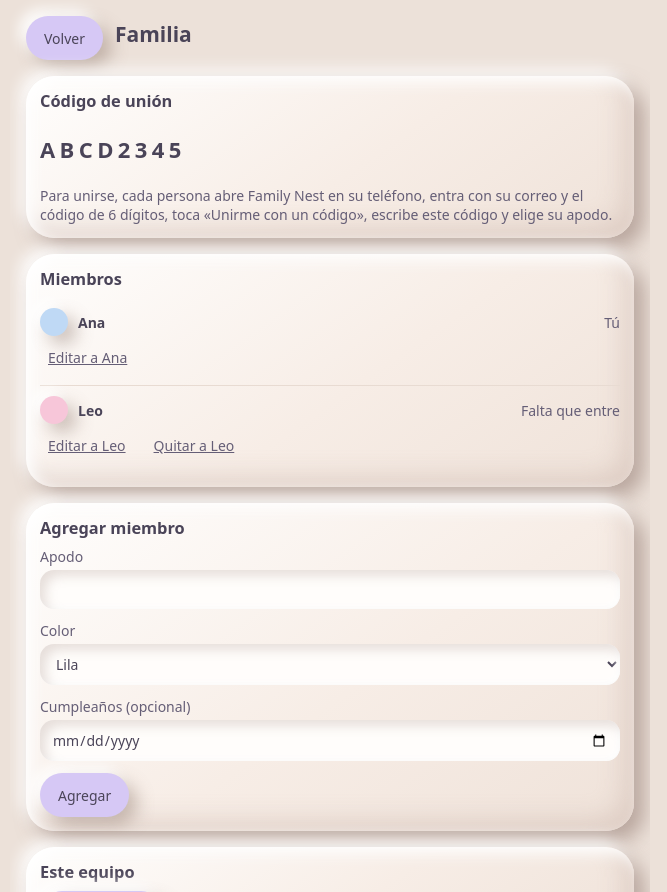
it: un apodo repetido o vacío no llega a la base
Click the button "Agregar" at (85, 795), box [40,773,129,817]
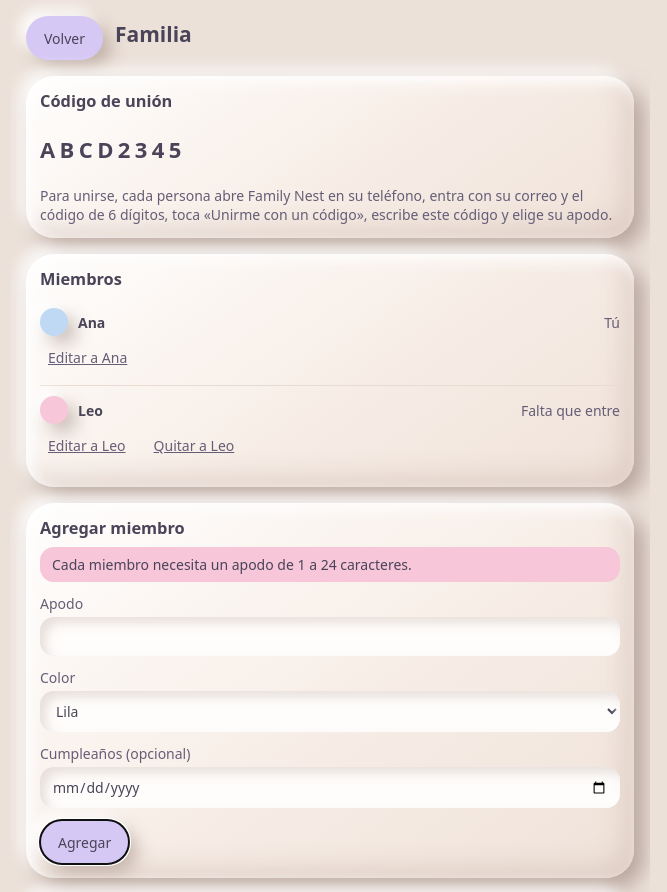
Expected: the message reads "Cada miembro necesita un apodo de 1 a 24 caracteres.", [52,555,412,574]
Type "leo" into the field labelled "Apodo" at (330, 636), box [40,617,620,656]
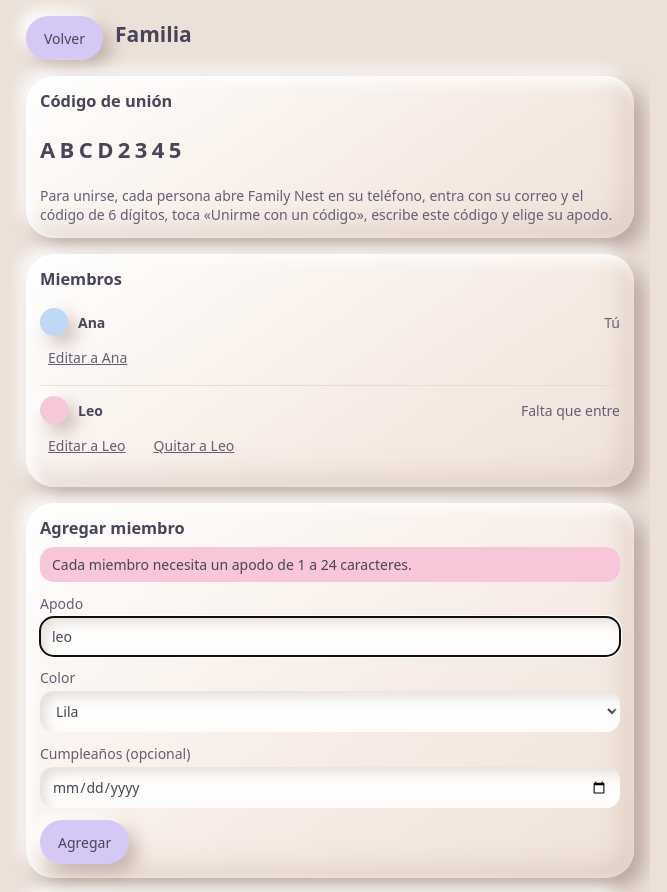
Click the button "Agregar" at (85, 842), box [40,820,129,864]
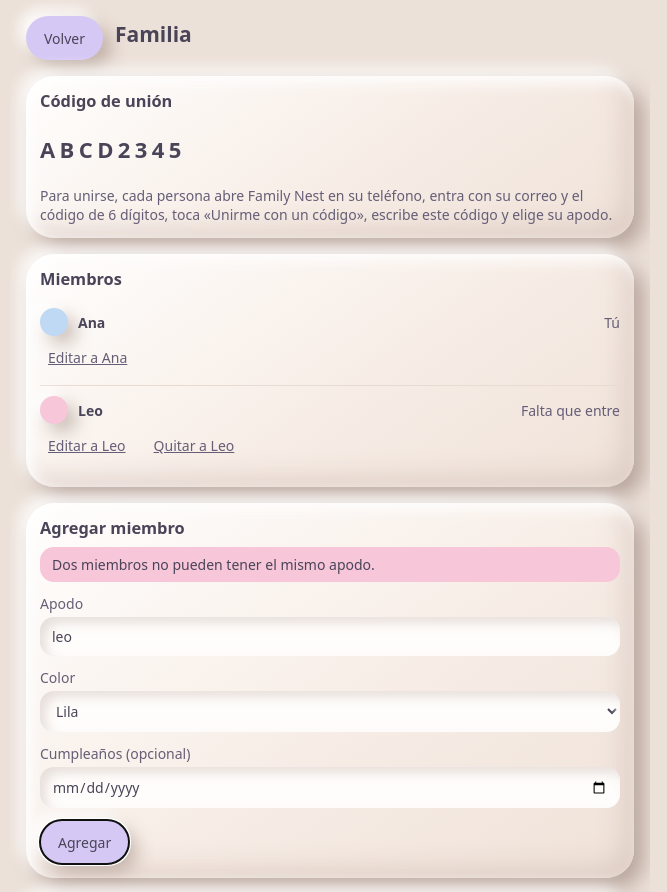
Expected: the message reads "Dos miembros no pueden tener el mismo apodo.", [52,555,375,574]
